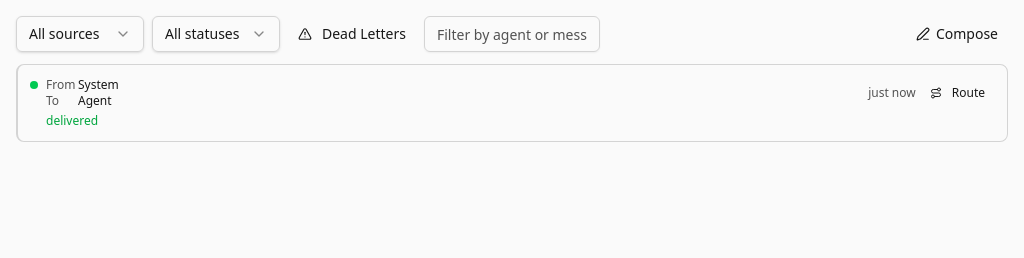
Test: ActivityFeed › search filter › shows filter-mismatch empty state when search filter matches nothing
Type "zzznomatch" into the field with placeholder "Filter by agent or message..." at (512, 34), box x1=424 y1=16 x2=600 y2=52
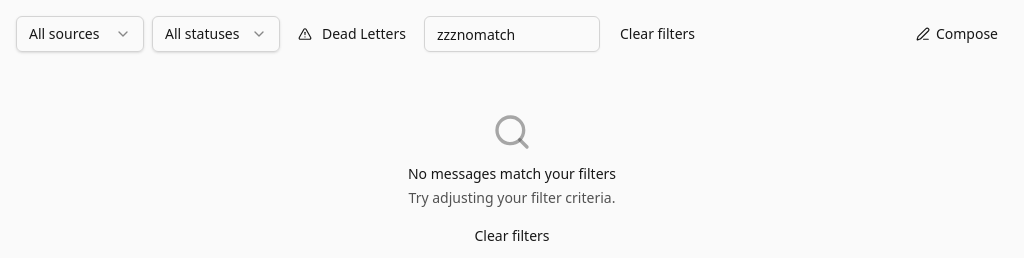
Expected: the text "No messages match your filters" is shown, x1=408 y1=164 x2=616 y2=184
